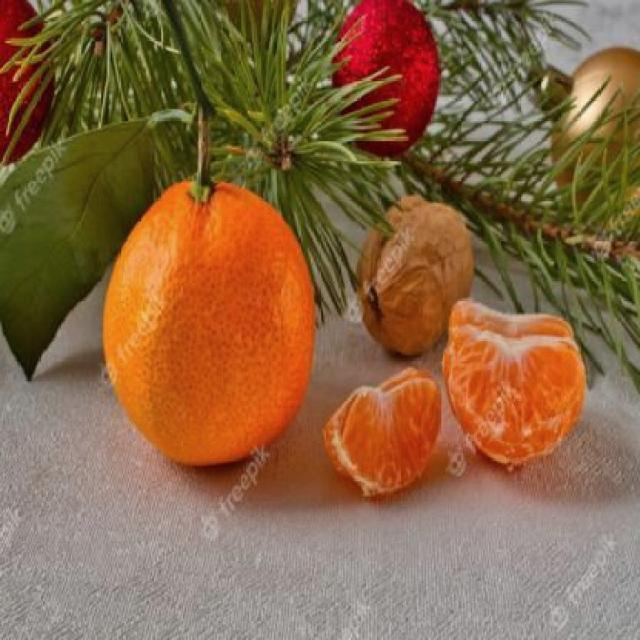Jeruk Sudah Matang: (102, 179, 310, 464)
